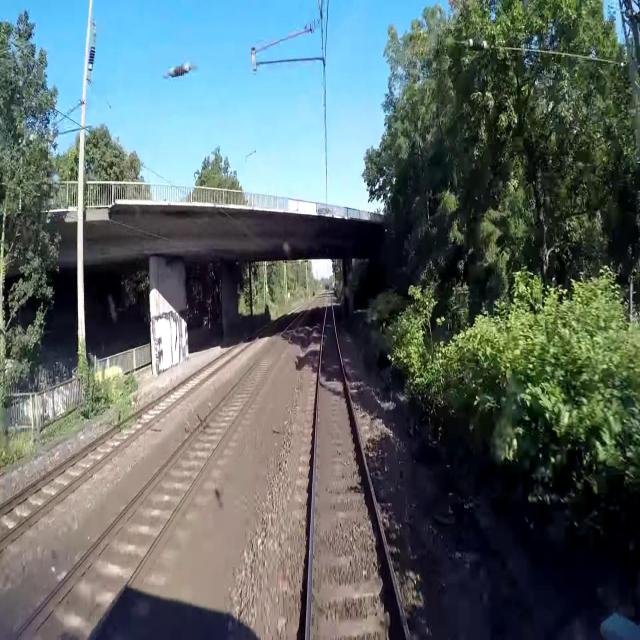rail-track: (17, 311, 305, 639), (0, 332, 259, 534), (310, 296, 405, 639)
